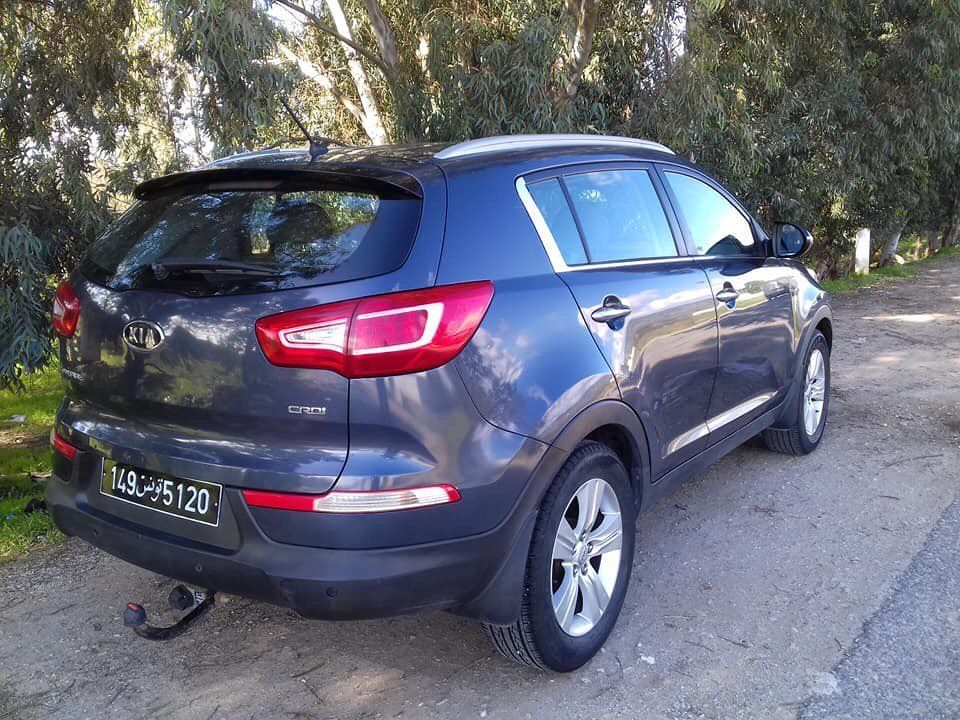LP: (99, 453, 224, 526)
